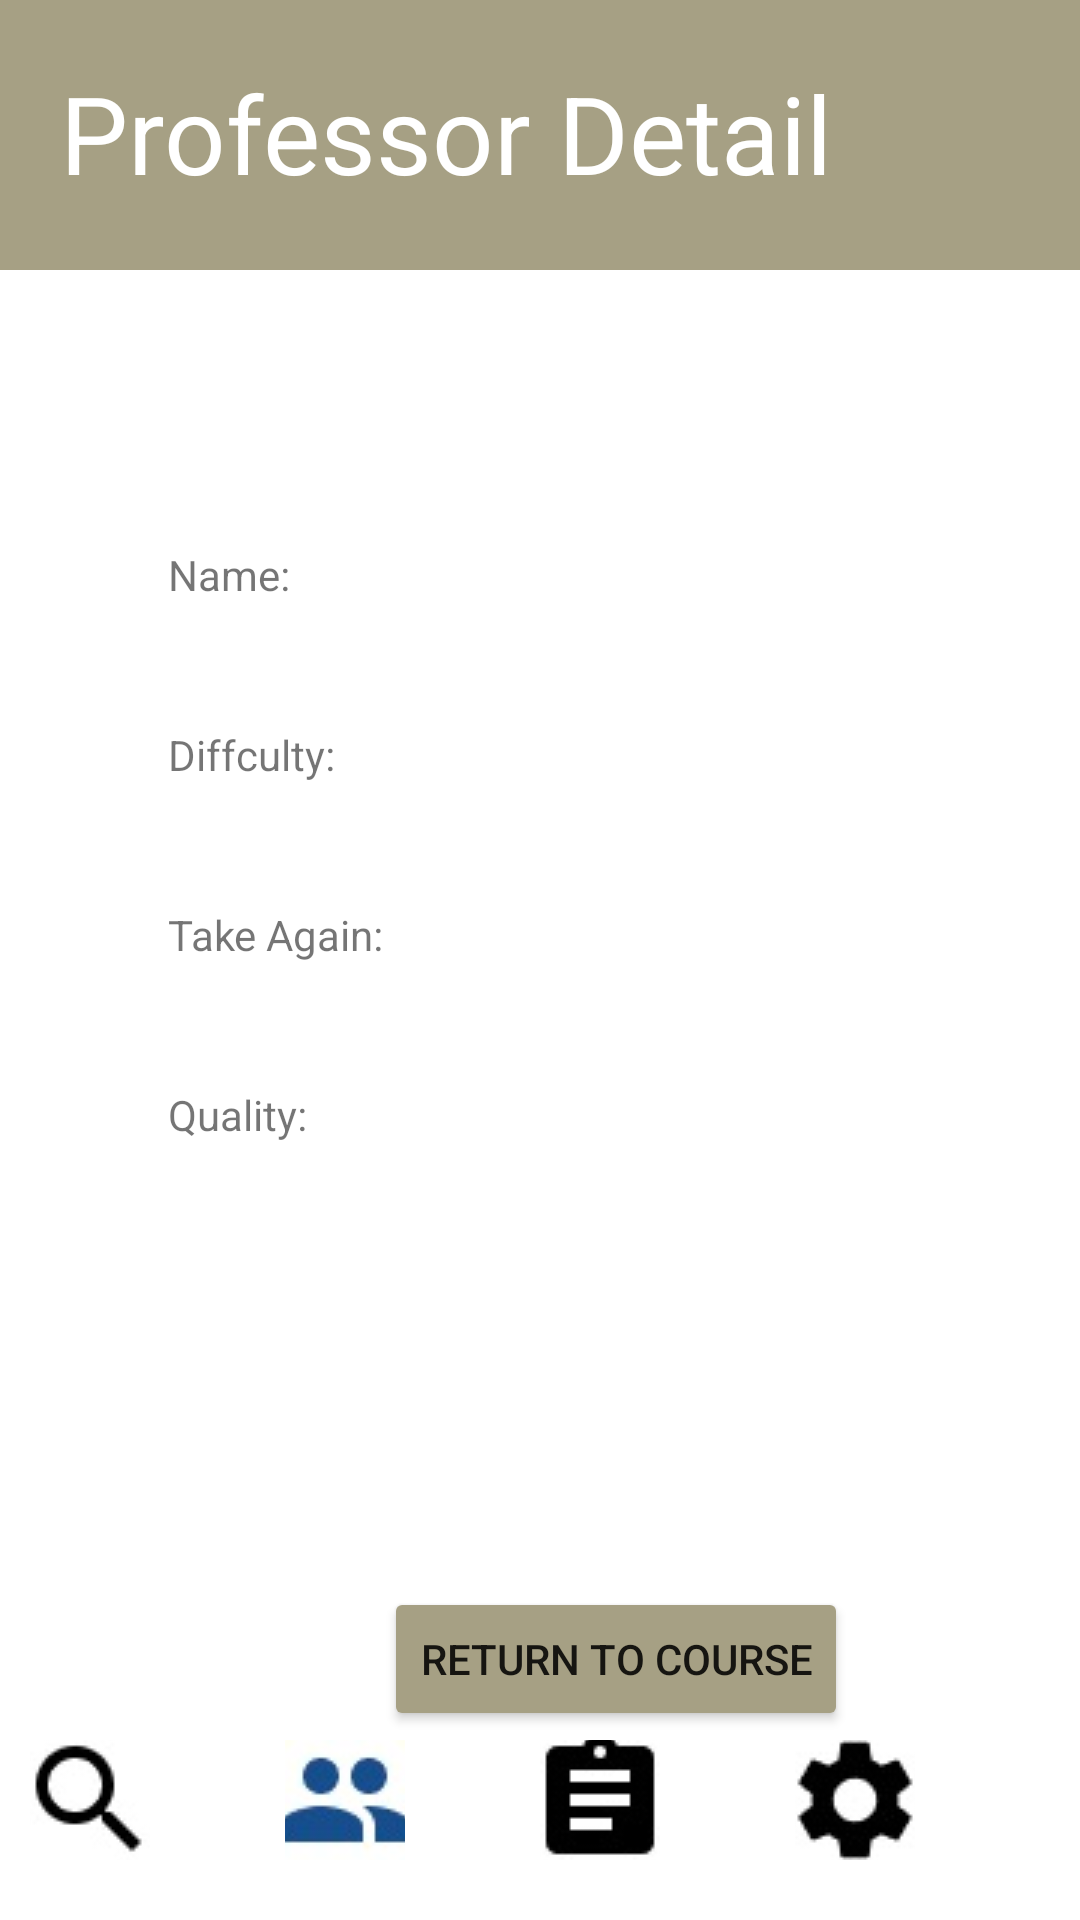

Screen size 1080w x 1920h. Icon name, then its box in pixels as region(x1, y1, x2, y2):
course list: region(545, 1740, 655, 1855)
people: region(285, 1757, 405, 1843)
search: region(35, 1745, 142, 1852)
setting: region(797, 1740, 913, 1860)
